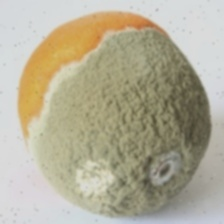orange: (12, 44, 211, 185)
